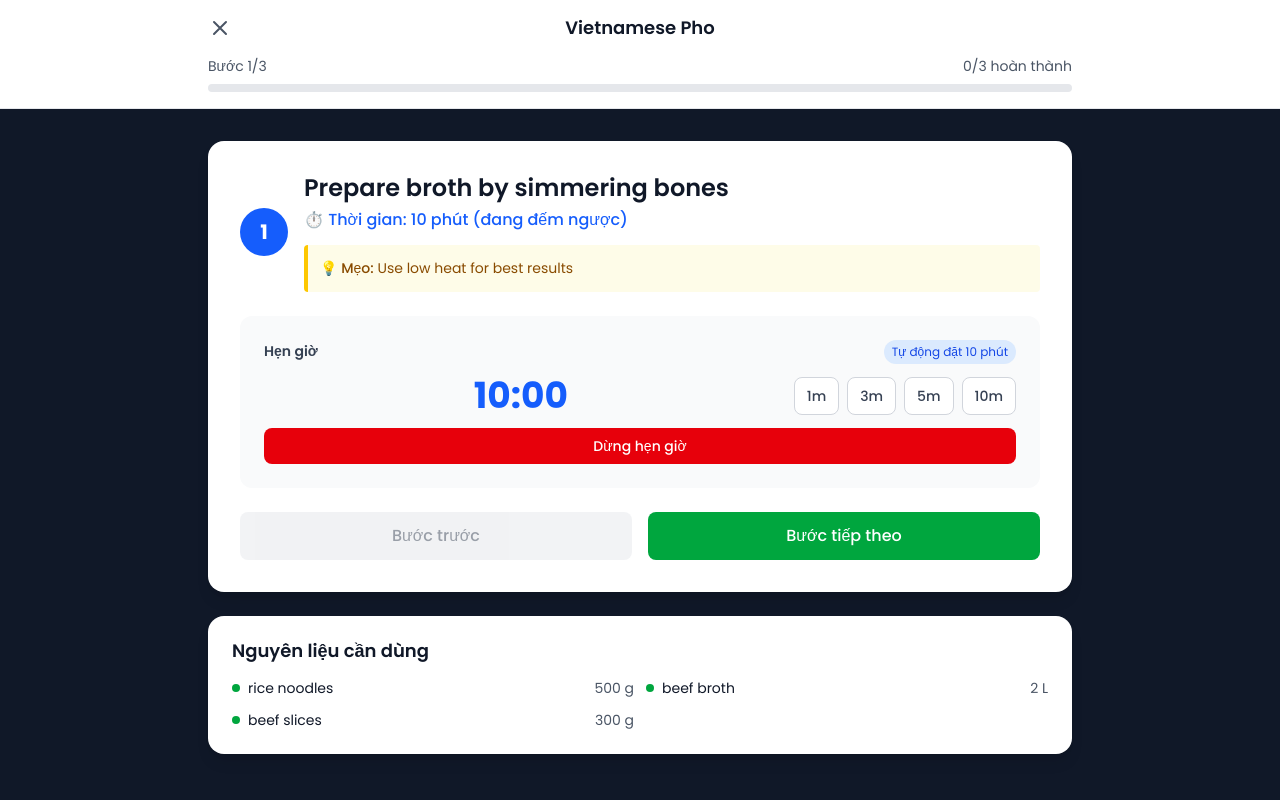
Test: CookingMode Component › should navigate to next step when next button is clicked
Click the button "Bước tiếp theo" at (844, 536), box top-left (648, 512), bottom-right (1040, 560)
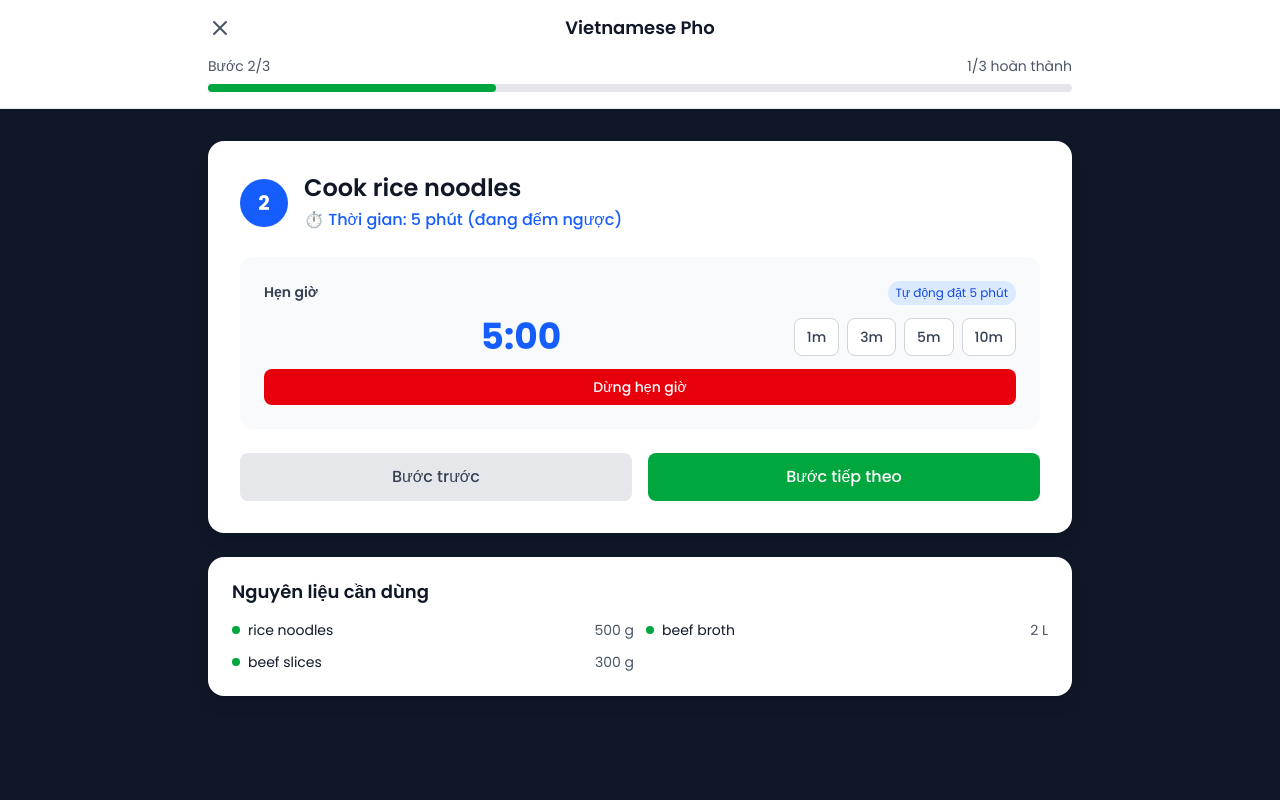
Check: the heading "Cook rice noodles" is shown, box top-left (304, 171), bottom-right (522, 204)
Check: the text "Bước 2/3" is shown, box top-left (208, 56), bottom-right (270, 76)
Check: the text "1/3 hoàn thành" is shown, box top-left (967, 56), bottom-right (1072, 76)
